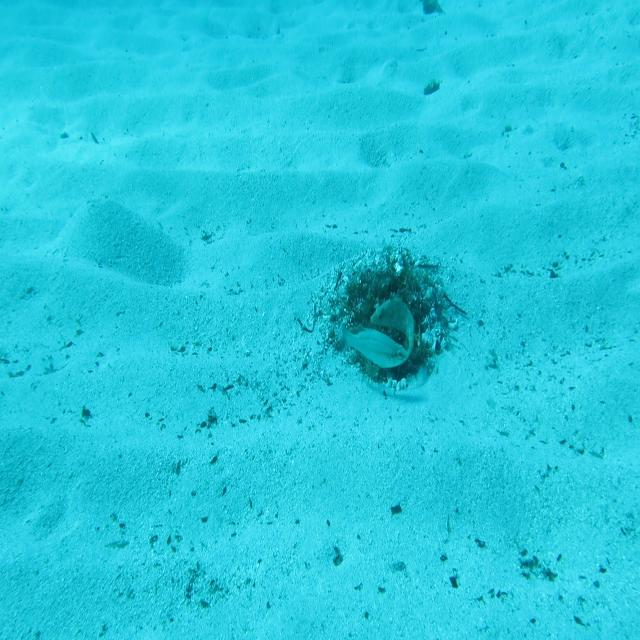DAN_CIRC: (370, 288, 414, 357)
female: (339, 321, 409, 371)
nest: (330, 246, 464, 400)
